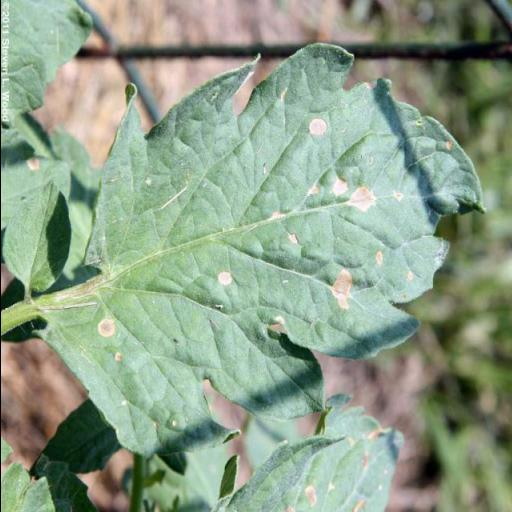disease_tomato: (36, 40, 490, 458)
